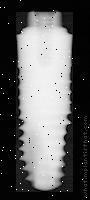DENTSPLY: (12, 12, 74, 192)
